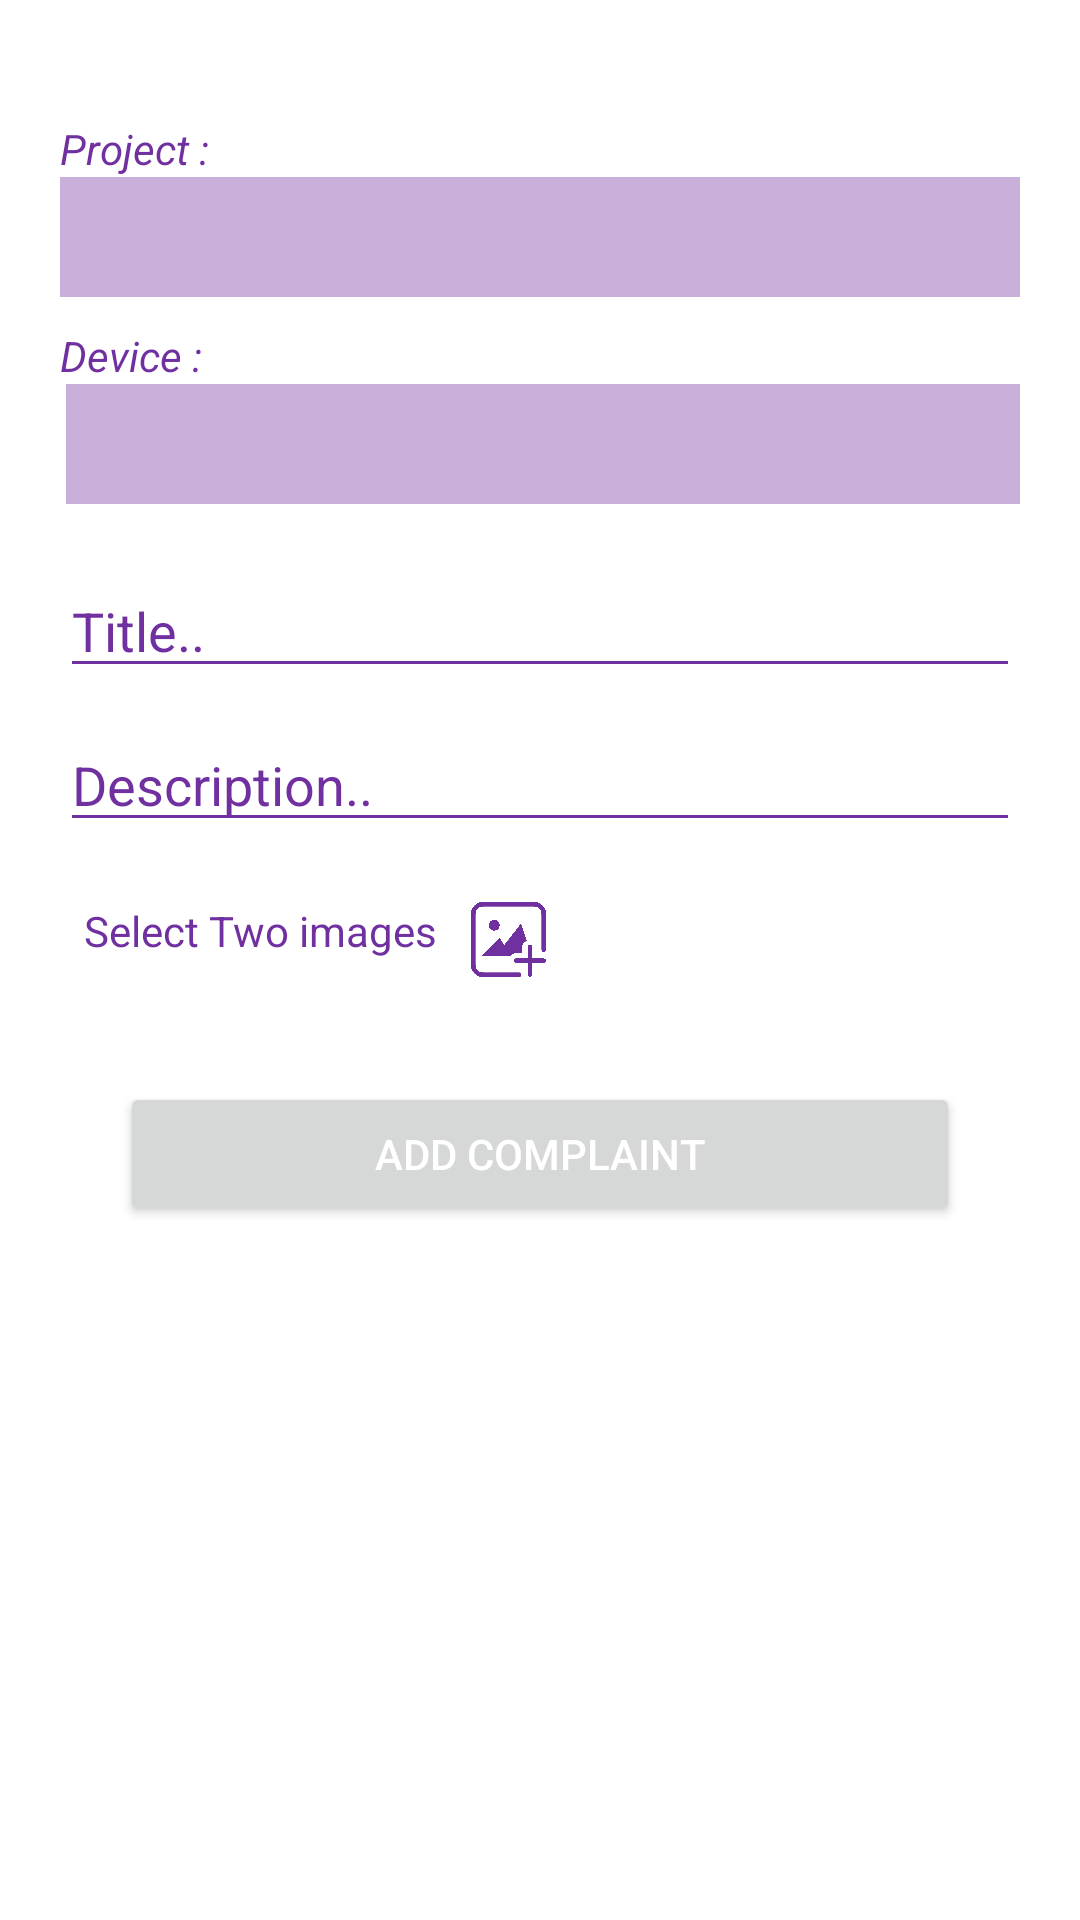

Icons on this 1080×1920 Android screen, each with the point to tap as (x=x, y=y):
upload: (x=508, y=939)
